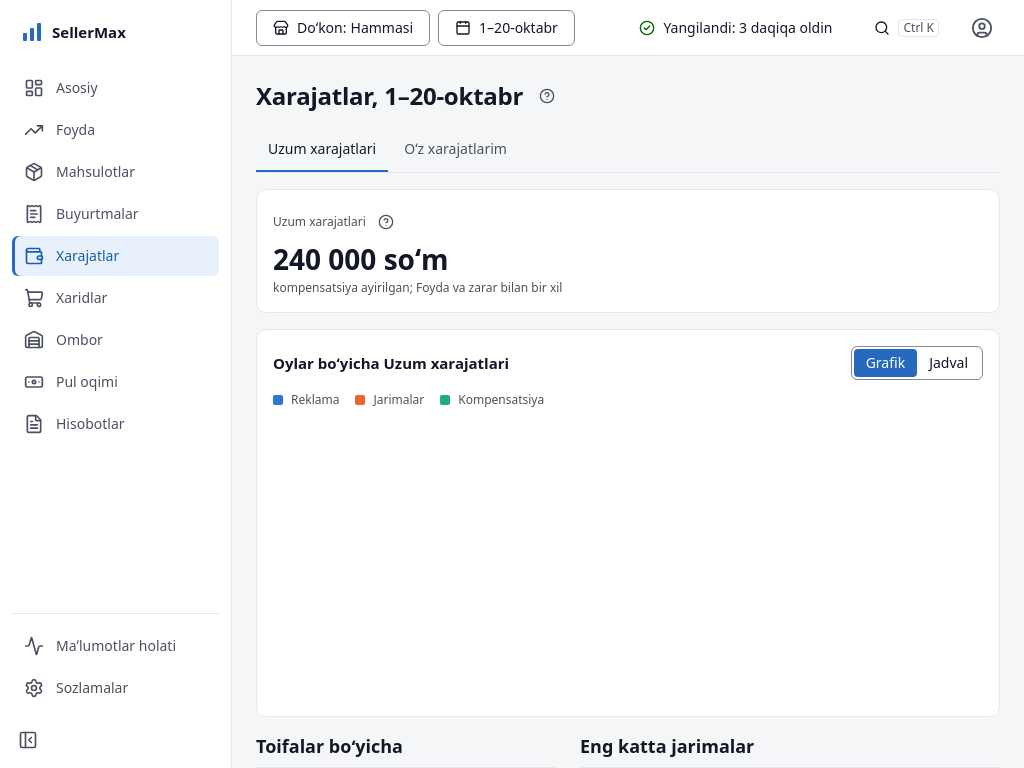
Test case: oʻz xarajatlarim › bo'lim URL'da; jadval: davrdagi qism, takroriy belgisi, do'kon nomi; jami API'dan
What coordinates should you click on to do the following:
click the tab "Oʻz xarajatlarim"
I would click on:
 (456, 150)
Its box is [392,128,519,172].
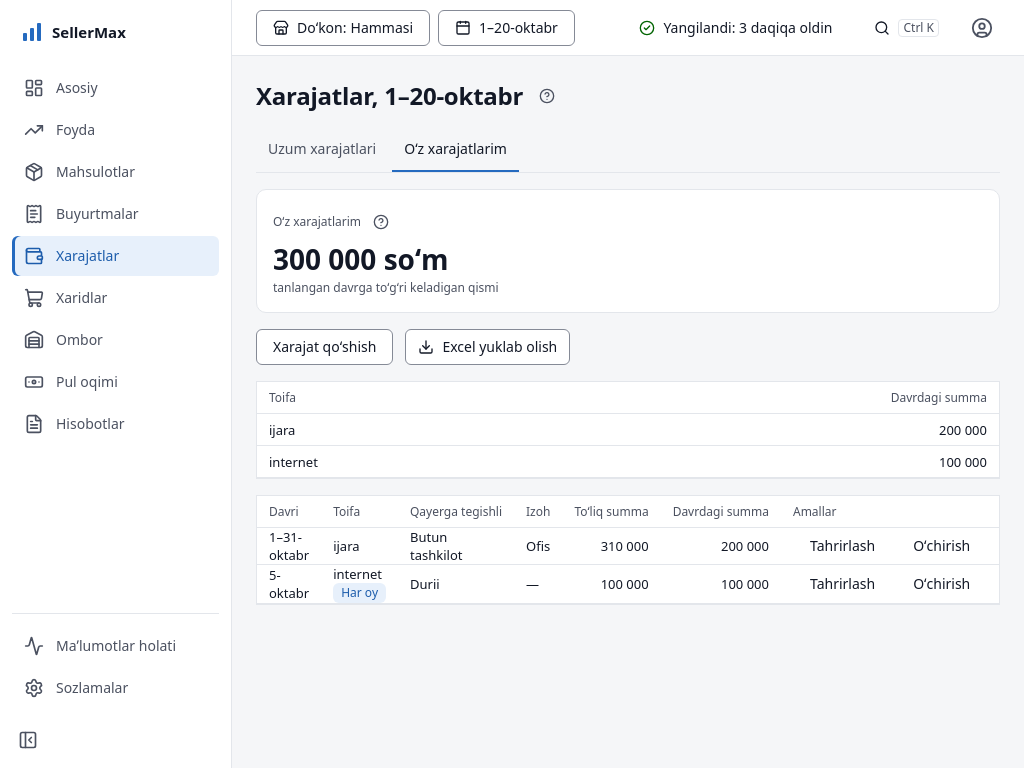
Expected: the text "200 000" in the row of "1–31-oktabr" is shown, [721,537,769,555]
Expected: the text "Har oy" is shown, [333,583,386,603]
Expected: the text "Durii" is shown, [398,565,514,604]
